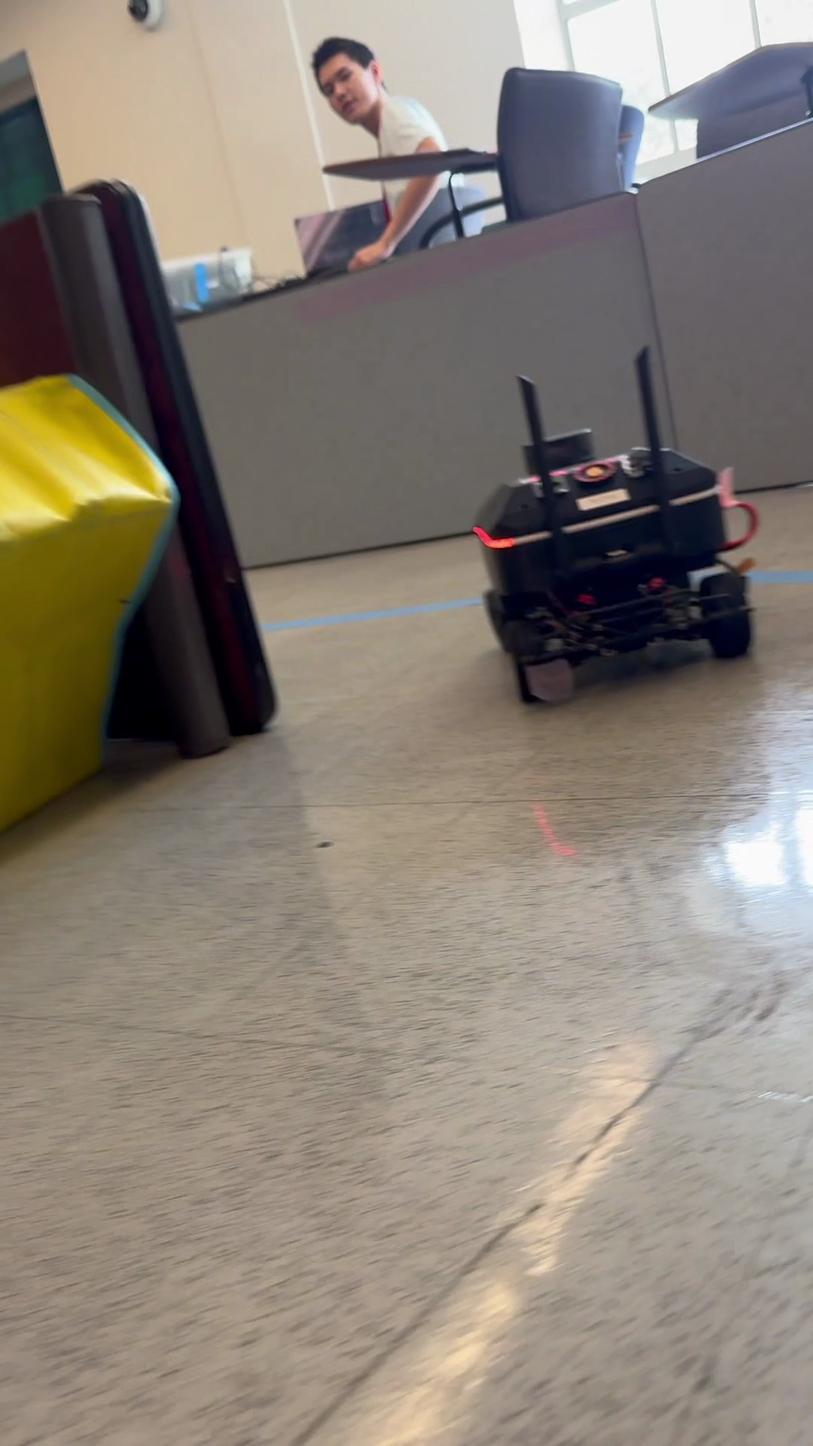racecar: (477, 351, 752, 706)
